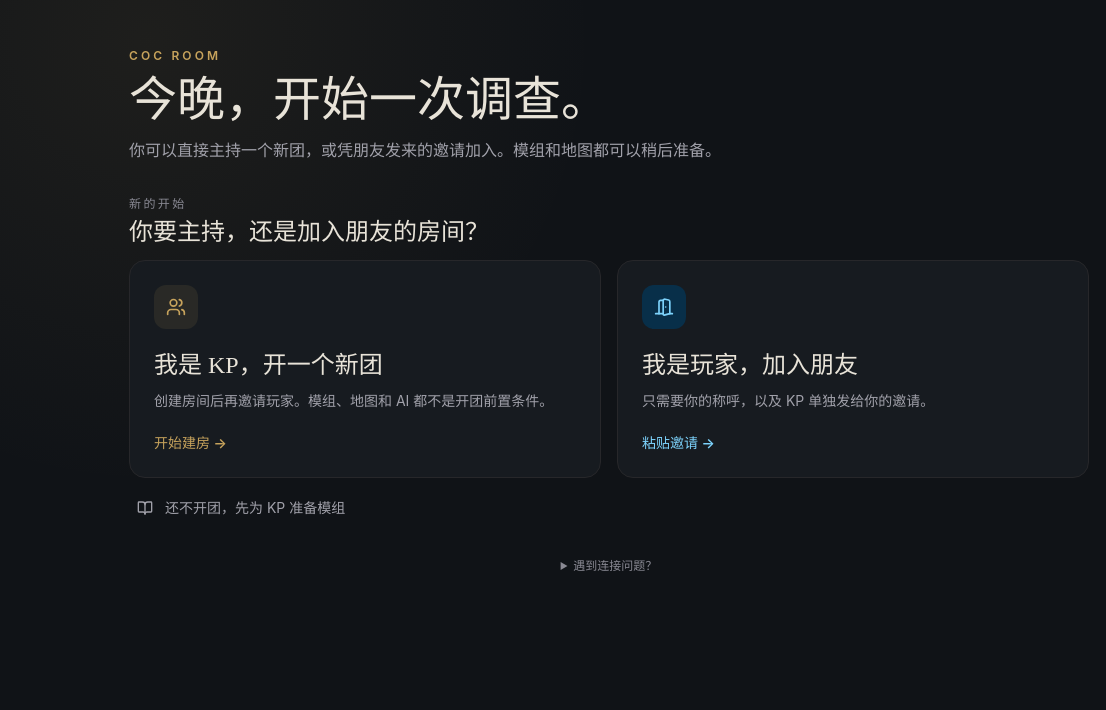
Test case: LobbyView saved rooms › turns a malformed invitation into a concrete recovery step
Step 1. Click the button "我是玩家，加入朋友 只需要你的称呼，以及 KP 单独发给你的邀请。 粘贴邀请 →" → (853, 369), box [617,260,1089,478]
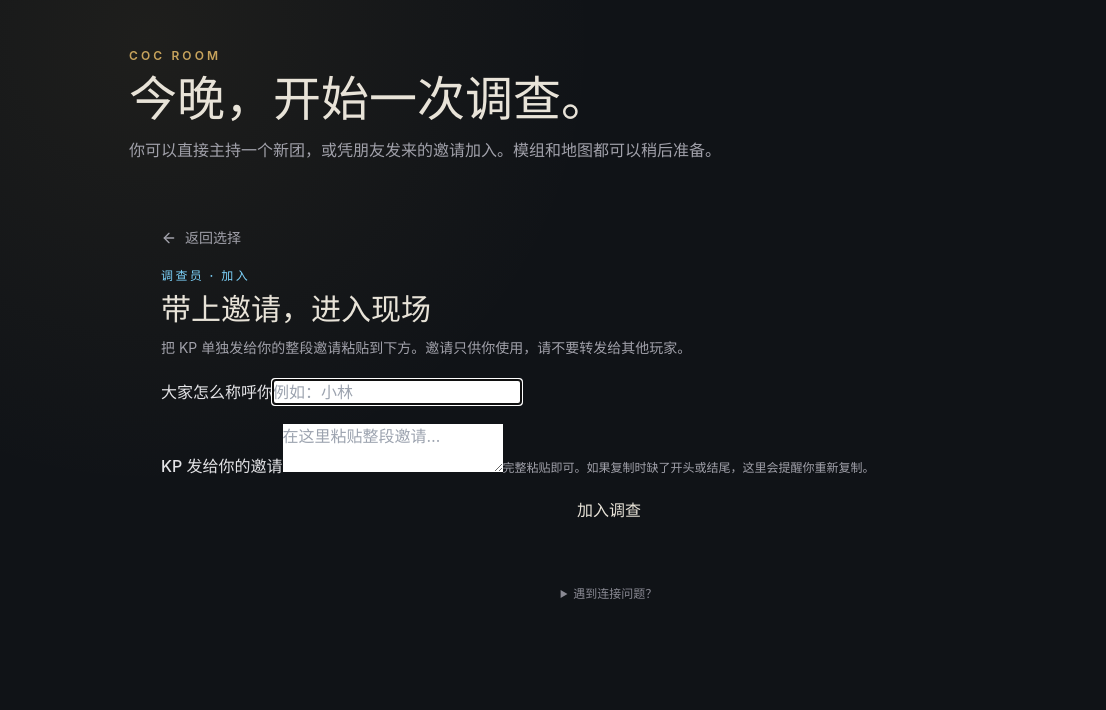
Step 2. Type "小林" into the field named "你的称呼" → (397, 392), box [273,380,521,404]
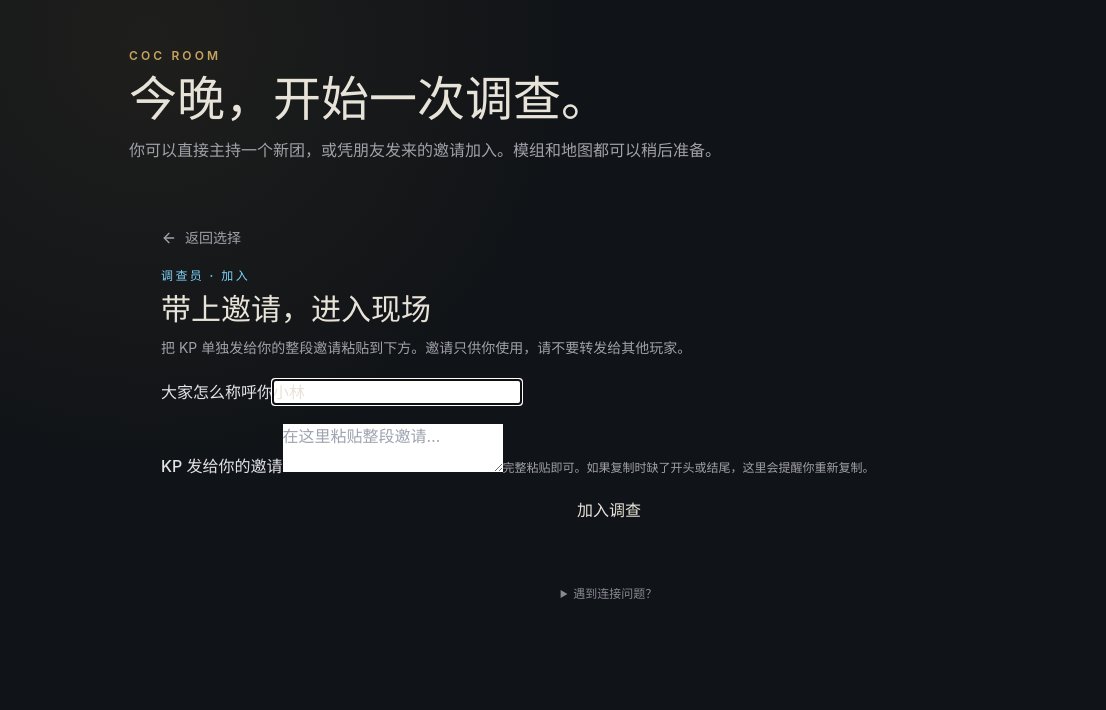
Step 3. Type "只复制到一半" into the text box labelled "KP 发给你的邀请" → (392, 448), box [282,424,502,472]
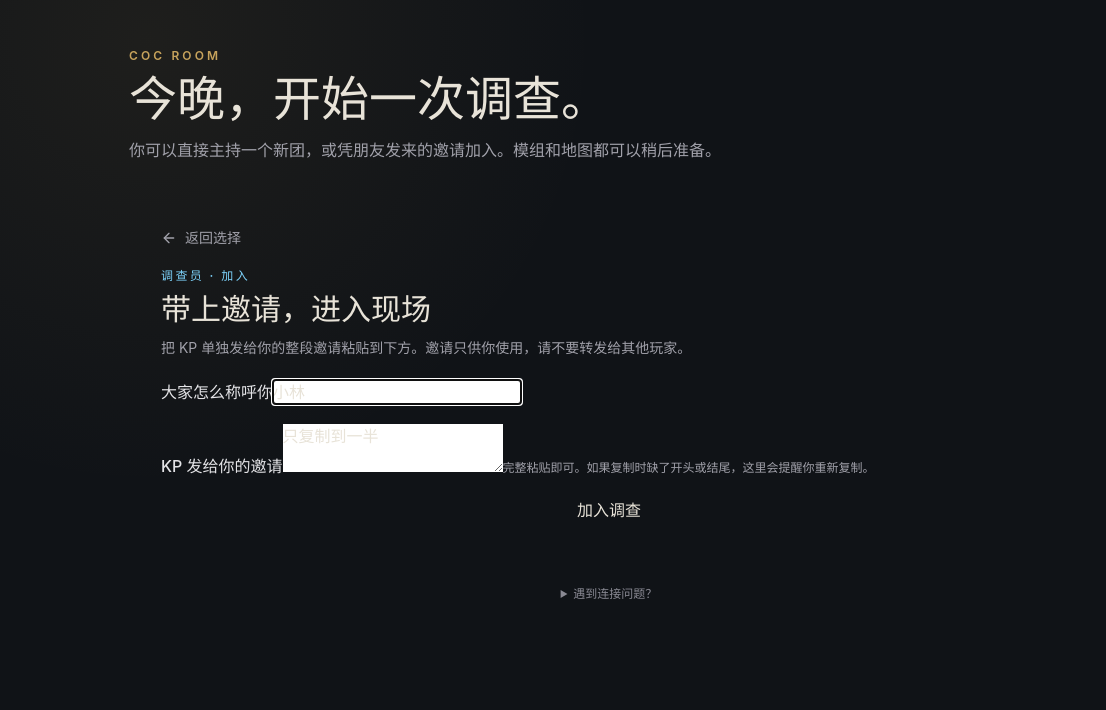
Step 4. Click the button "加入调查" → (609, 510), box [161,498,1057,522]
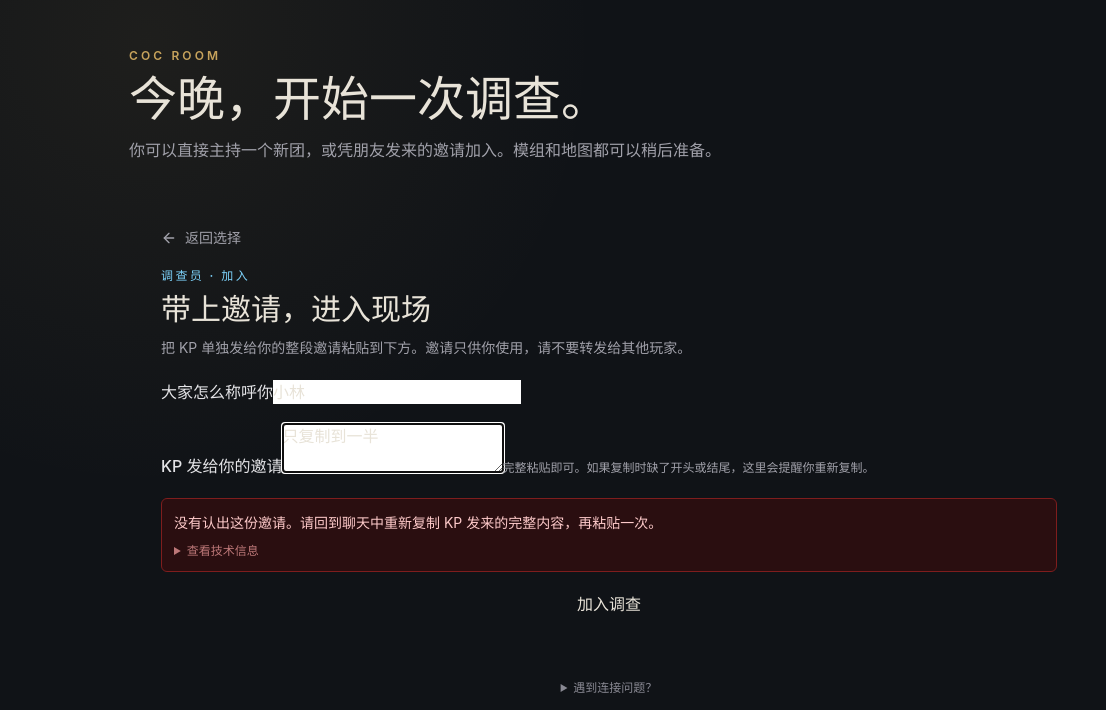
Expected: the message shows "重新复制 KP 发来的完整内容", [174,514,662,531]
